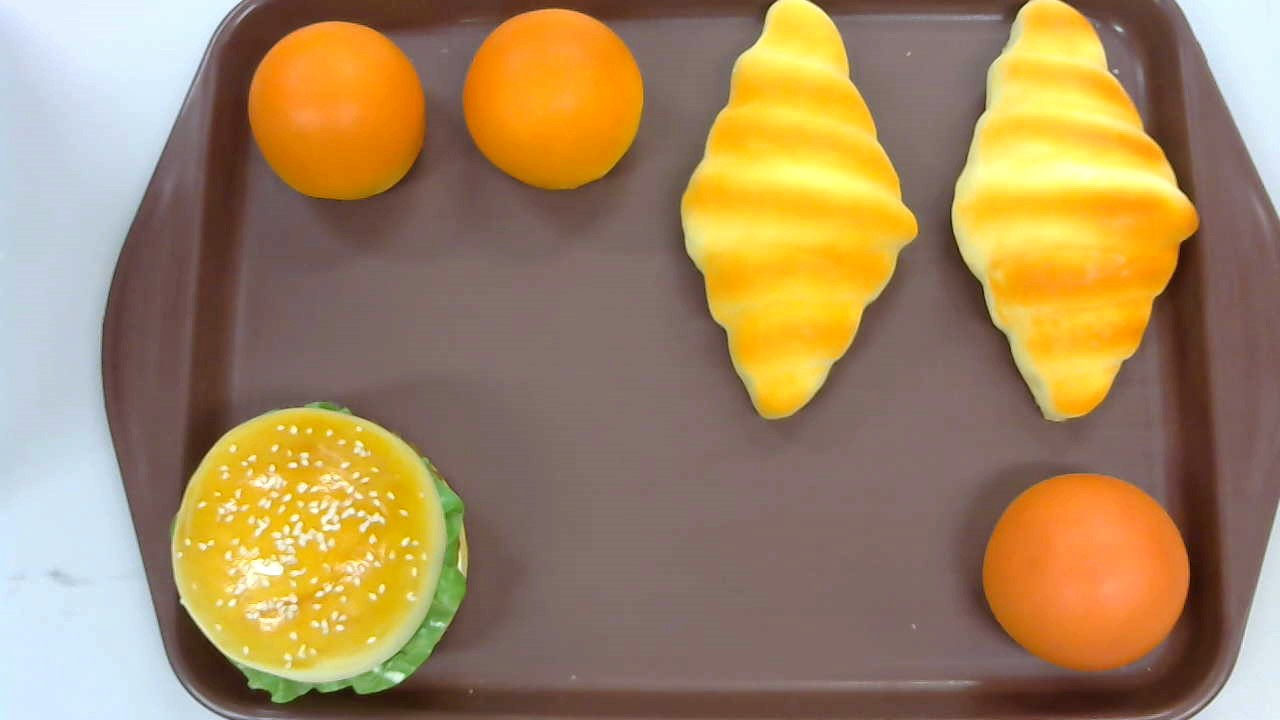bun: (980, 474, 1188, 670), (461, 8, 645, 191), (247, 20, 425, 199)
croissant: (952, 1, 1200, 421), (680, 1, 920, 420)
hamburger: (169, 402, 468, 702)
